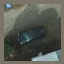car: (14, 25, 50, 47)
